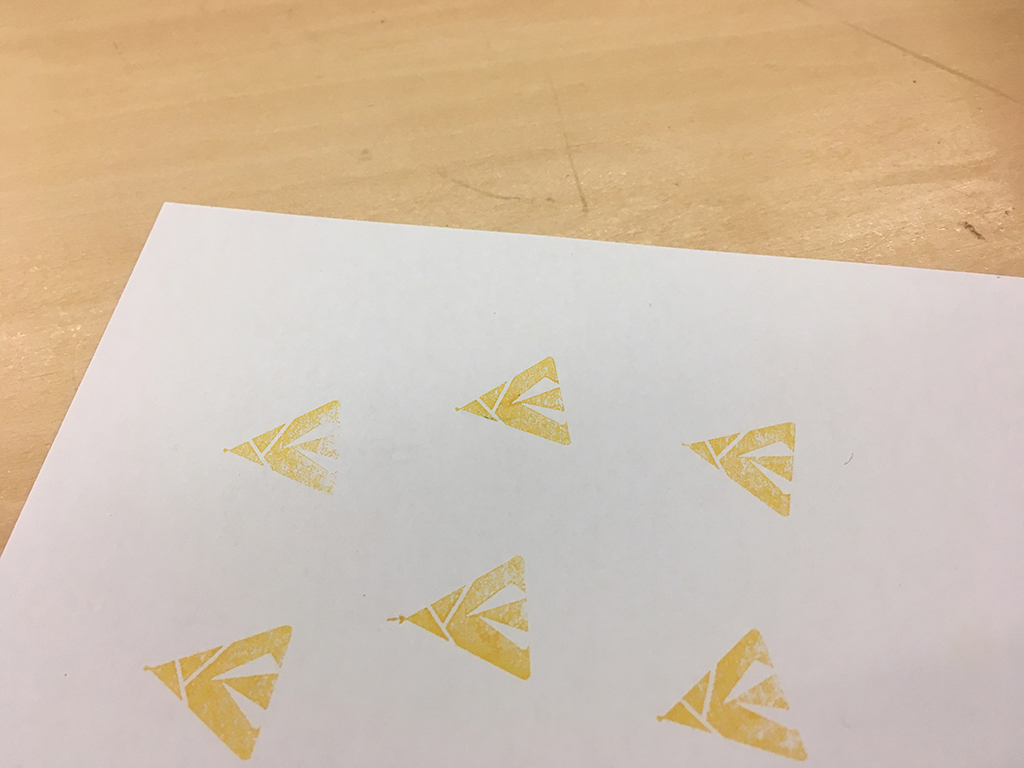tent: (368, 542, 545, 688), (653, 619, 819, 768), (140, 618, 295, 766), (445, 346, 584, 456), (670, 410, 803, 524), (215, 396, 348, 502)
